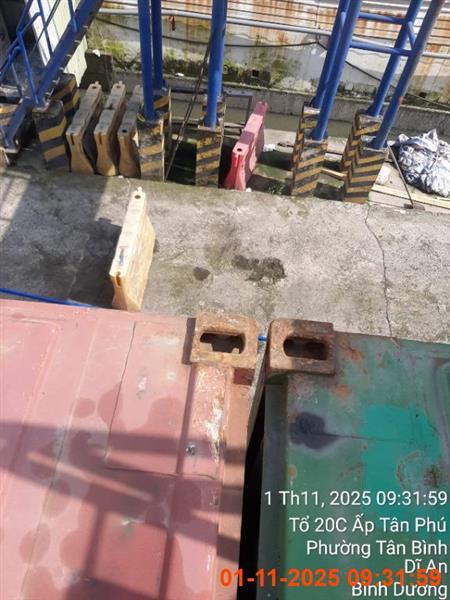broken: (1, 292, 449, 598)
